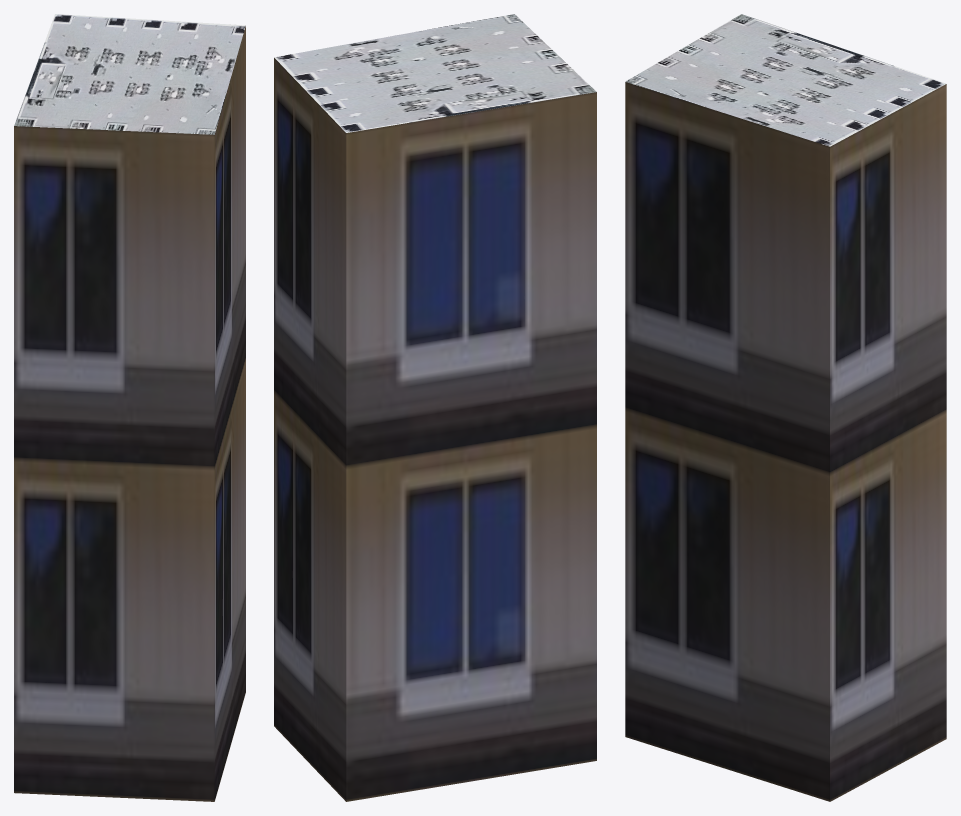
The model's file is ResTex__3779.fbx.
3 views of the same model, side by side, from view 1: azimuth 30°, elevation 25°; view 2: azimuth 150°, elevation 25°; view 3: azimuth 270°, elevation 25° (orthographic). The views are drawn at different scales.
Parts seen in each view (by area): view 1: CityEngineMaterial_5_m, CityEngineMaterial_4_m; view 2: CityEngineMaterial_5_m, CityEngineMaterial_4_m; view 3: CityEngineMaterial_5_m, CityEngineMaterial_4_m.
Boxes of the visible parts, box(x1,y1,x2,y2) form: CityEngineMaterial_5_m: box(14, 26, 245, 801); CityEngineMaterial_4_m: box(14, 14, 245, 134); CityEngineMaterial_5_m: box(274, 58, 596, 801); CityEngineMaterial_4_m: box(274, 14, 596, 132); CityEngineMaterial_5_m: box(625, 82, 946, 801); CityEngineMaterial_4_m: box(625, 14, 946, 146).
Size of the model in its own units: 2.61 by 6 by 2.67.
2 materials, 2 textured.
